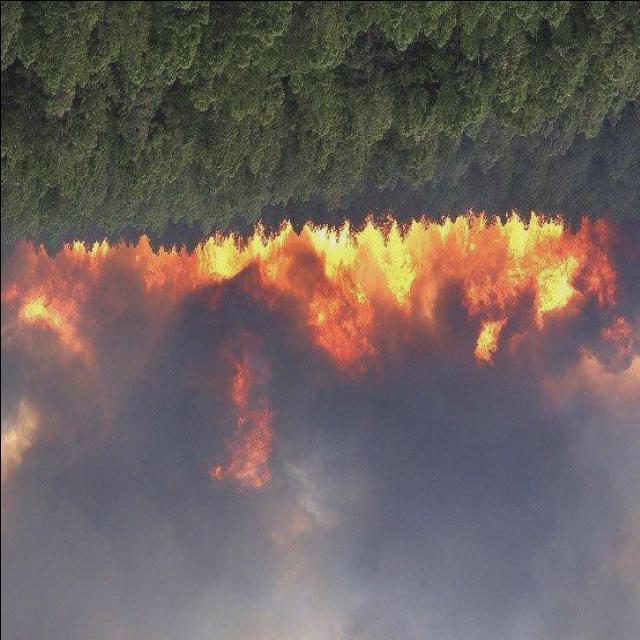Fire: (118, 208, 626, 378), (14, 232, 105, 374)
